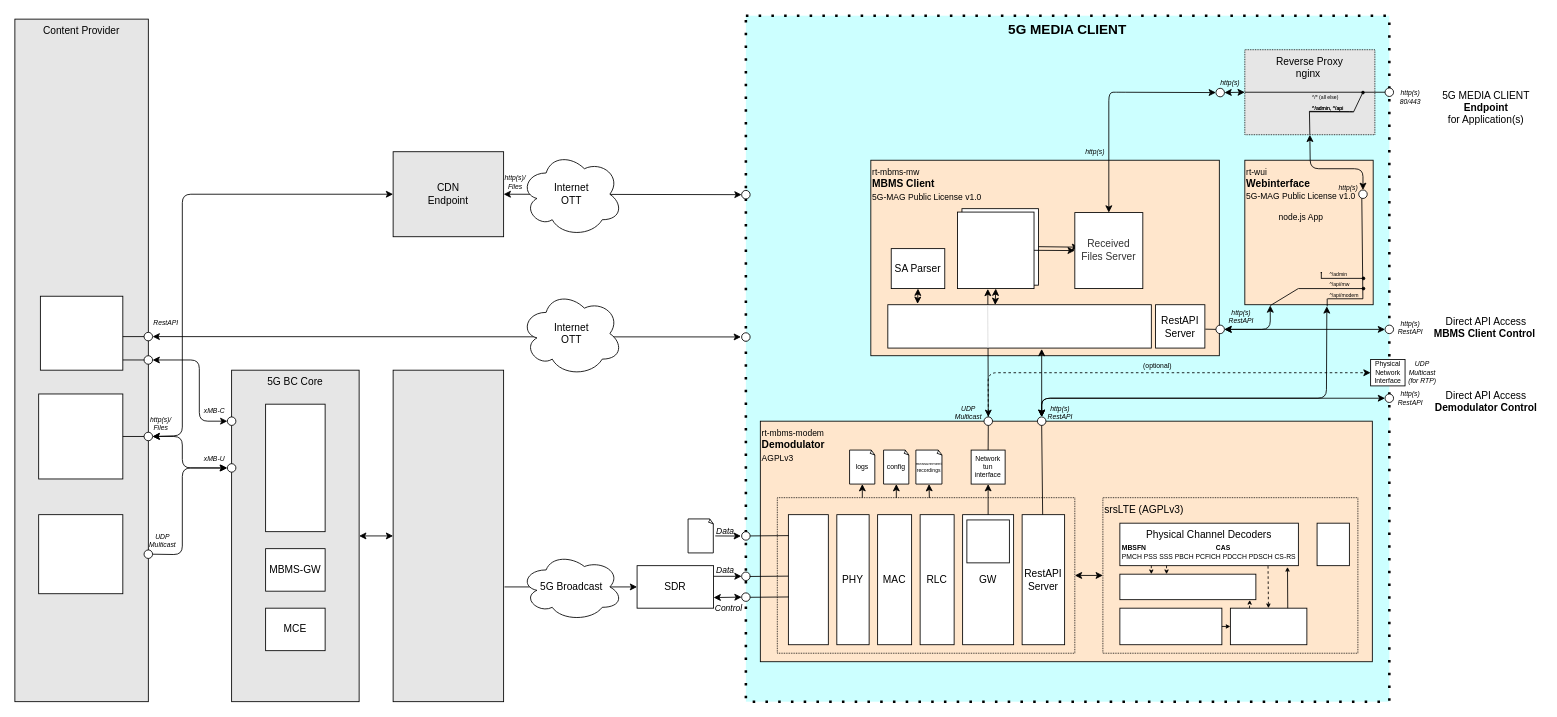
This 1557x717 diagram has some shape labels left out. Here are the shapes that lost their labels. From the top down, the centre of each, then its label:
At point (995, 250): "FLUTE decoder uses rt-libflute".
At point (81, 332): "Control System".
At point (1019, 326): "Control Logic".
At point (80, 436): "HLS/DASH Source".
At point (295, 467): "BMSC".
At point (80, 554): "(TS over) RTP Source".
At point (448, 535): "5G BC RAN".
At point (700, 535): "Sample File".
At point (987, 541): "MCast Stream Inspection T arget Address, TMGI,...".
At point (1332, 544): "RRC".
At point (808, 579): "Soapy Reader".
At point (1187, 586): "Synchronisation".
At point (1170, 626): "OFDM Demodulation".
At point (1268, 626): "Channel Estimation".
